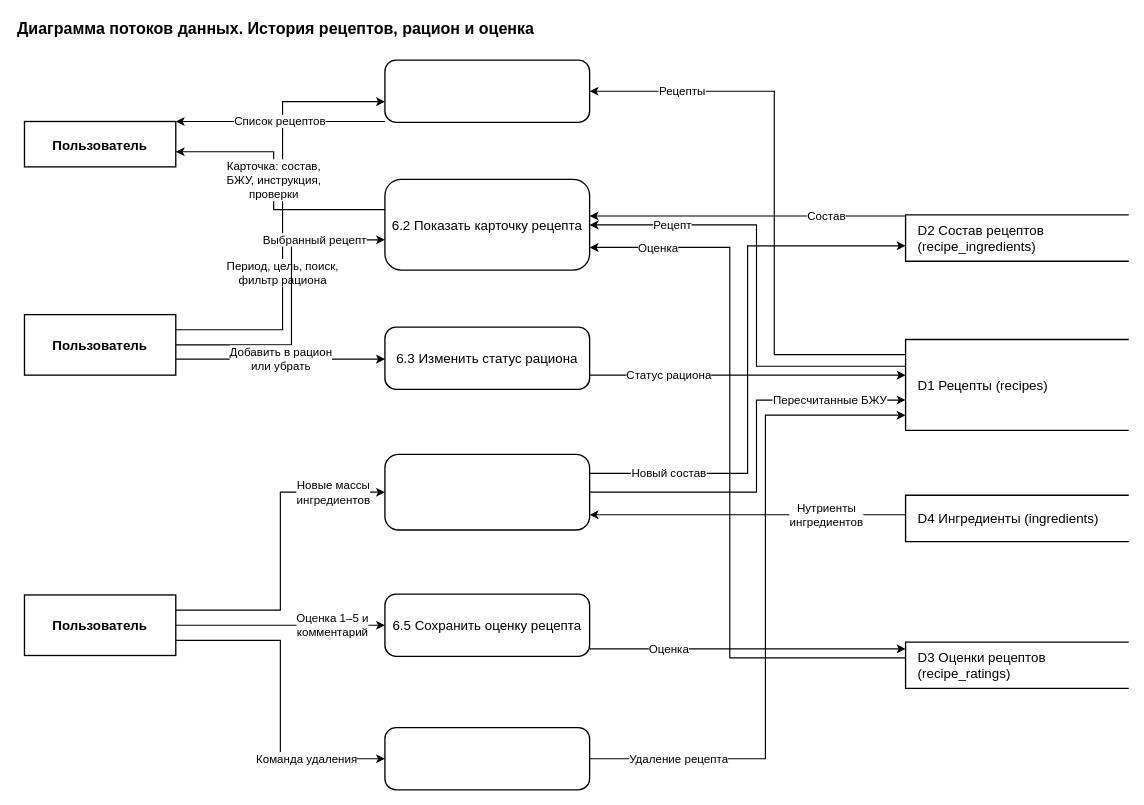
Image size: 1144x805. Some labels were removed from this diagram. The shapes that lost their labels are listed below. From the top down, each one's centre as x and y in pixels, then its label:
At point (487, 91): "6.1 Отобрать рецепты по фильтрам".
At point (487, 491): "6.4 Изменить массы и пересчитать БЖУ".
At point (487, 758): "6.6 Удалить рецепт из истории".
